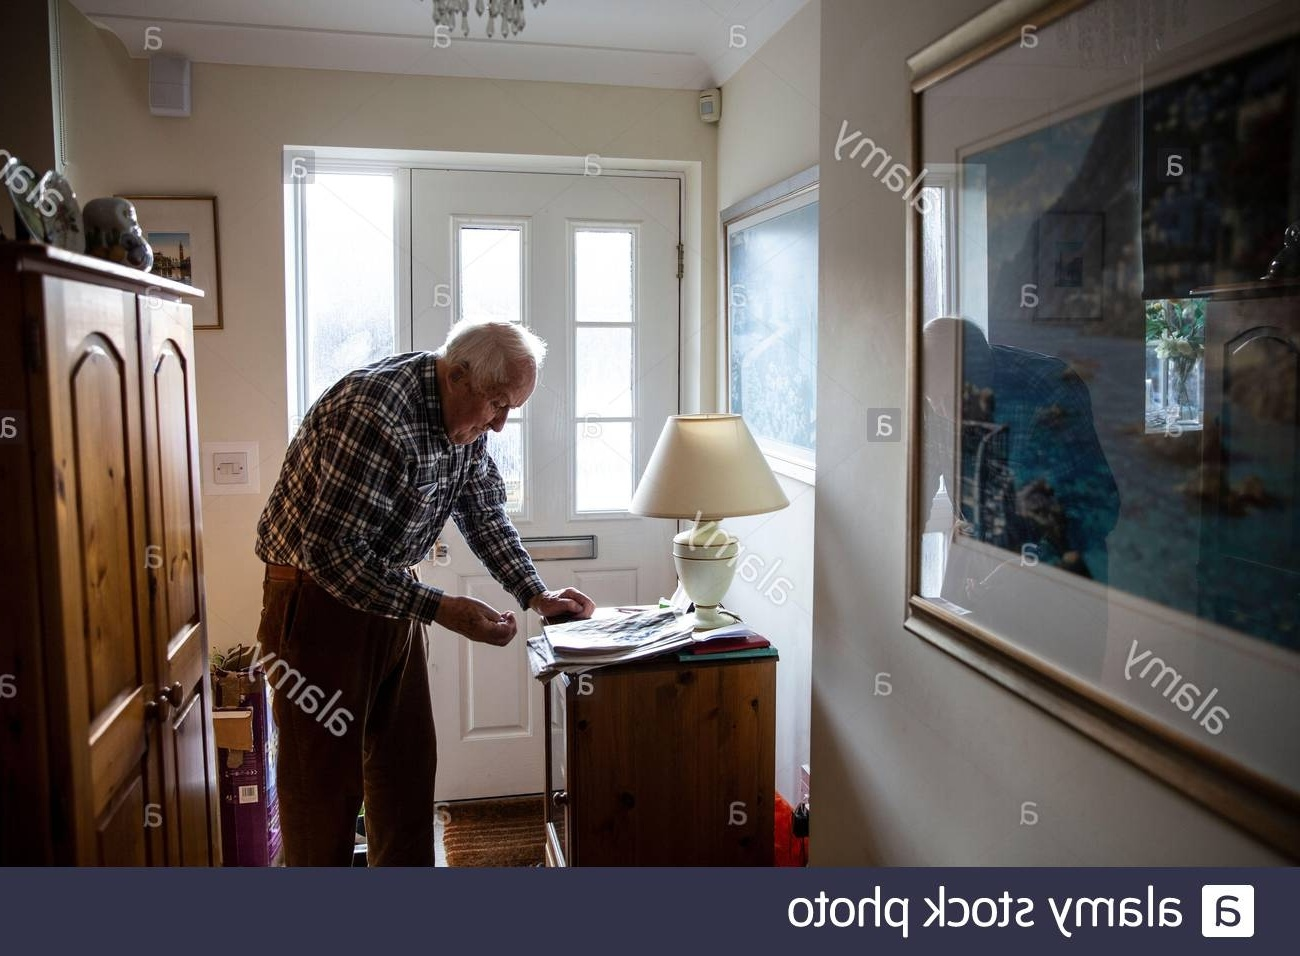not_fallen: (212, 329, 614, 865)
